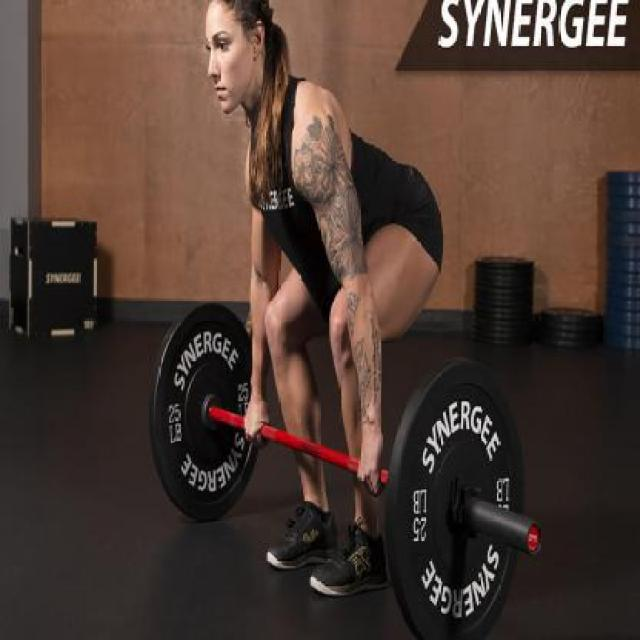Barbell: (522, 508, 544, 570)
